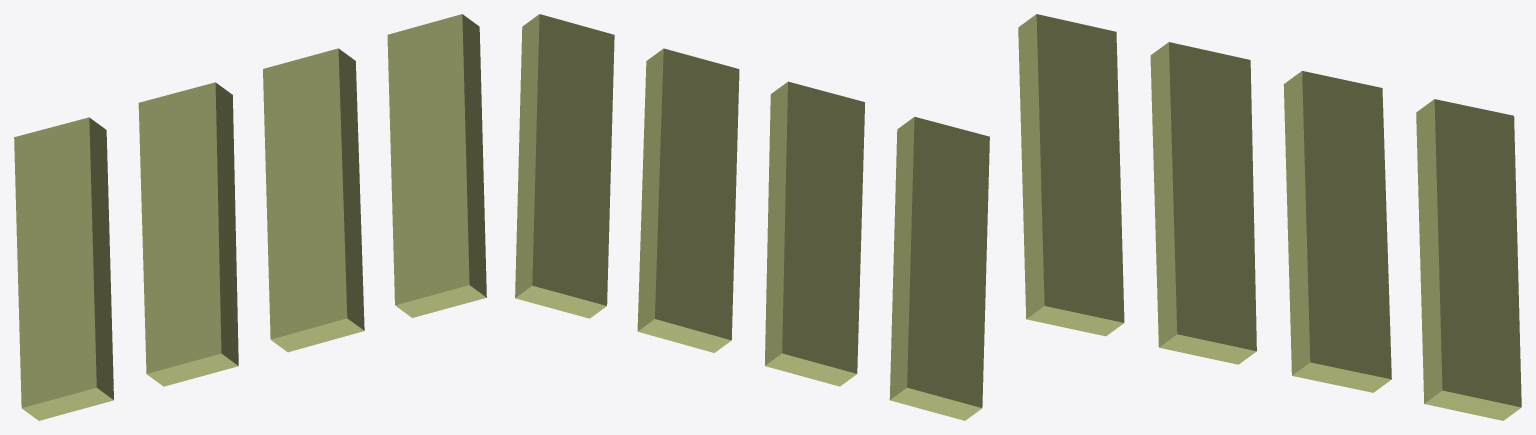
The picture shows the model from 3 angles, left to right: view 1: azimuth 30°, elevation 25°; view 2: azimuth 150°, elevation 25°; view 3: azimuth 330°, elevation 25°; orthographic projection. The views are drawn at different scales.
Visible parts, largest first — view 1: 0_0_3_1_3_2_1_2; view 2: 0_0_3_1_3_2_1_2; view 3: 0_0_3_1_3_2_1_2.
Part boxes in pixels (x1,y1,x2,y2): 0_0_3_1_3_2_1_2: [14, 14, 486, 420]; 0_0_3_1_3_2_1_2: [515, 14, 989, 420]; 0_0_3_1_3_2_1_2: [1018, 14, 1521, 420].
Size of the model in its own units: 91.25 by 54.73 by 6.2.
